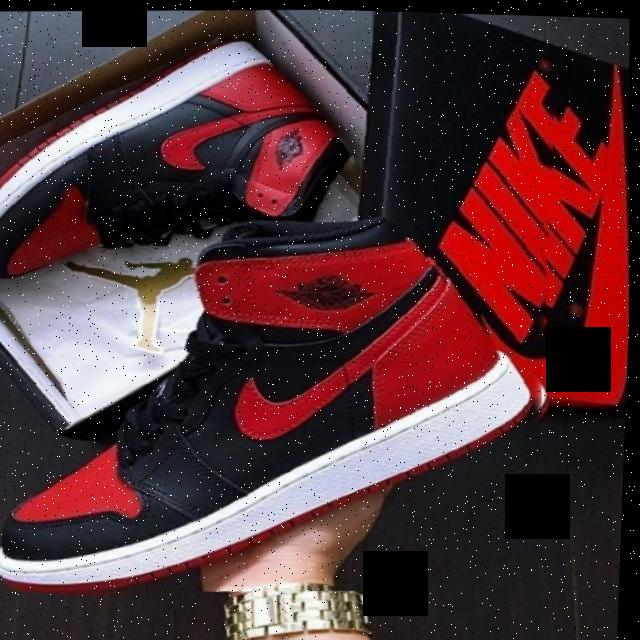shoe: (0, 15, 578, 604)
